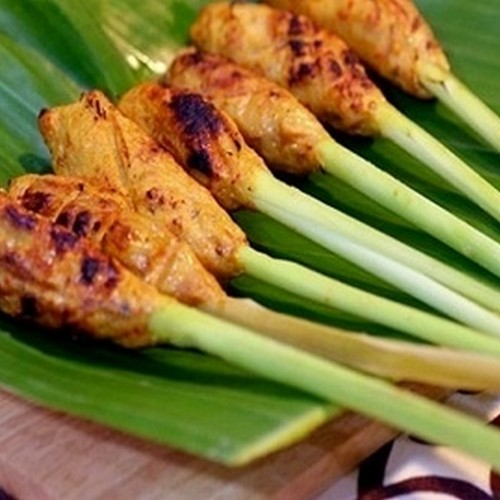sate languan: (35, 93, 267, 292), (163, 1, 382, 169), (8, 163, 204, 342)
